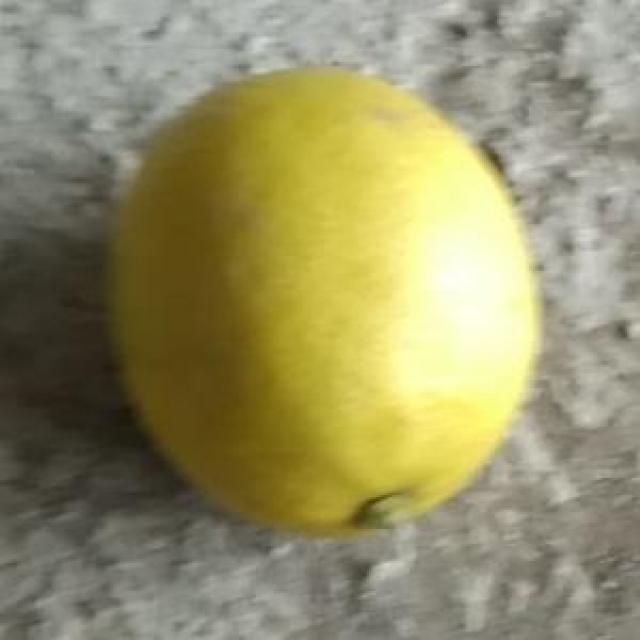lemon: (99, 63, 544, 530)
